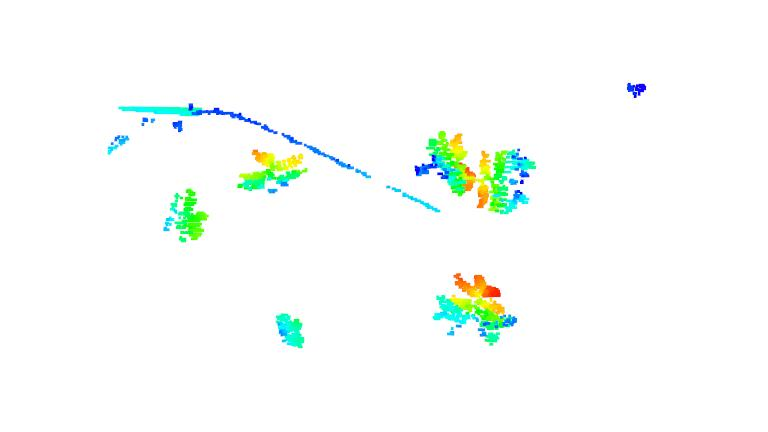chickpea: (431, 273, 520, 344), (460, 148, 537, 216), (412, 131, 476, 195), (237, 148, 312, 195), (159, 189, 210, 244), (271, 310, 309, 349)
